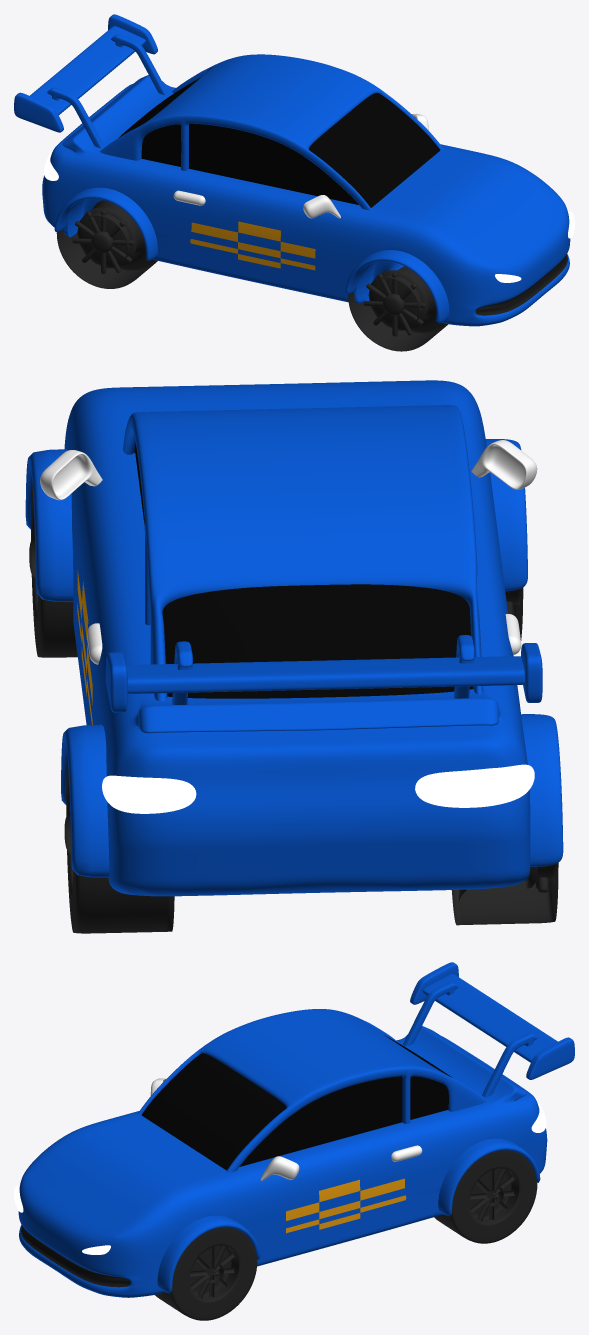
Rendered from car-podio.glb.
The picture shows the model from 3 angles, top to bottom: view 1: azimuth 30°, elevation 25°; view 2: azimuth 150°, elevation 25°; view 3: azimuth 270°, elevation 25°; orthographic projection. The views are drawn at different scales.
Parts seen in each view (by area): view 1: Cube.005, NurbsPath.005, Cylinder.014, NurbsPath.004, NurbsPath.006, Plane.003, Cylinder.019, Plane.004, Cylinder.020, Cube.010, Cube.009, Cube.007; view 2: Cube.005, NurbsPath.005, NurbsPath.004, Cylinder.014, Plane.003, Cube.040, Cylinder.018, Cylinder.015, Cylinder.020, Cube.007, Cylinder.019, Plane.004 (+2 smaller); view 3: Cube.005, NurbsPath.005, Cylinder.014, NurbsPath.004, NurbsPath.006, Plane.003, Cylinder.015, Plane.004, Cylinder.018, Cube.010, Cube.009, Cube.007.
Part boxes in pixels (bbox=[...]): Cube.005: bbox=[42, 75, 570, 326]; NurbsPath.005: bbox=[100, 54, 443, 210]; Cylinder.014: bbox=[56, 200, 448, 351]; NurbsPath.004: bbox=[119, 78, 439, 207]; NurbsPath.006: bbox=[141, 123, 358, 204]; Plane.003: bbox=[30, 26, 145, 114]; Cylinder.019: bbox=[345, 250, 449, 323]; Plane.004: bbox=[14, 14, 157, 132]; Cylinder.020: bbox=[54, 187, 157, 260]; Cube.010: bbox=[111, 34, 168, 95]; Cube.009: bbox=[47, 87, 104, 148]; Cube.007: bbox=[303, 113, 428, 218]; Cube.005: bbox=[64, 380, 530, 896]; NurbsPath.005: bbox=[123, 405, 483, 701]; NurbsPath.004: bbox=[134, 443, 473, 698]; Cylinder.014: bbox=[29, 476, 558, 933]; Plane.003: bbox=[126, 656, 524, 693]; Cube.040: bbox=[102, 764, 534, 813]; Cylinder.018: bbox=[61, 724, 109, 877]; Cylinder.015: bbox=[25, 449, 73, 601]; Cylinder.020: bbox=[521, 714, 563, 866]; Cube.007: bbox=[40, 440, 537, 500]; Cylinder.019: bbox=[485, 439, 527, 591]; Plane.004: bbox=[105, 643, 542, 712]; Cube.005: bbox=[18, 1026, 547, 1297]; NurbsPath.005: bbox=[137, 1009, 487, 1172]; Cylinder.014: bbox=[155, 1150, 537, 1320]; NurbsPath.004: bbox=[142, 1035, 452, 1170]; NurbsPath.006: bbox=[239, 1076, 448, 1166]; Plane.003: bbox=[422, 974, 557, 1062]; Cylinder.015: bbox=[157, 1215, 260, 1293]; Plane.004: bbox=[410, 962, 574, 1079]; Cylinder.018: bbox=[438, 1138, 540, 1216]; Cube.010: bbox=[482, 1033, 537, 1097]; Cube.009: bbox=[403, 982, 458, 1046]; Cube.007: bbox=[150, 1078, 299, 1181].
Bounding box in the file's own units: 6.52 × 2.82 × 7.81.
